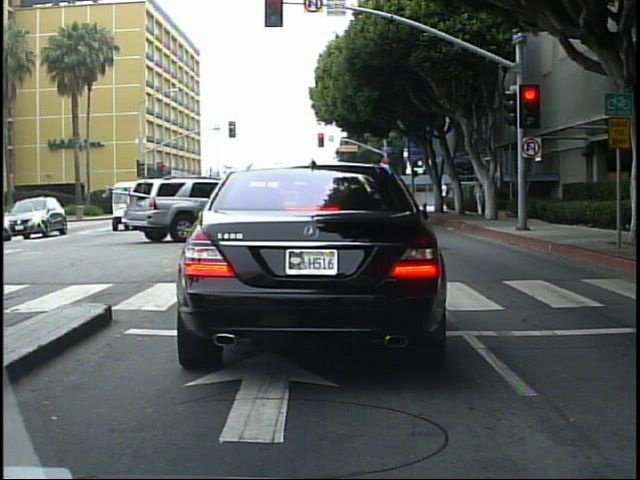person: (632, 167, 638, 263), (472, 180, 487, 218), (437, 179, 451, 213), (633, 166, 637, 267)
